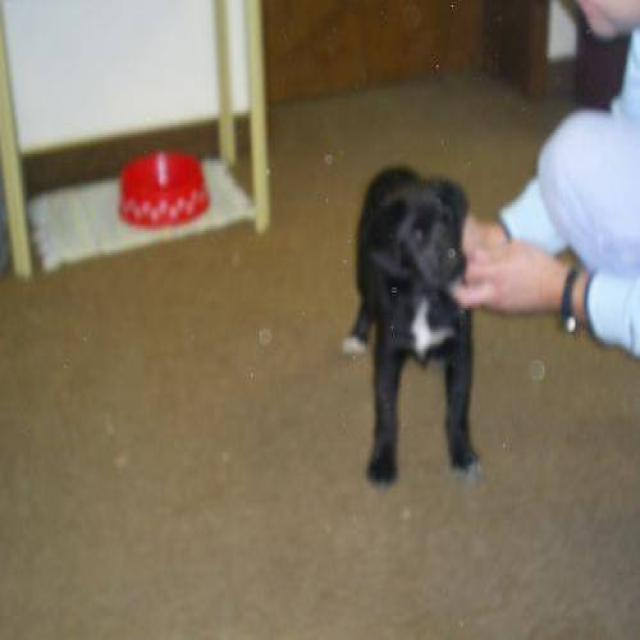dog: (340, 163, 482, 486)
